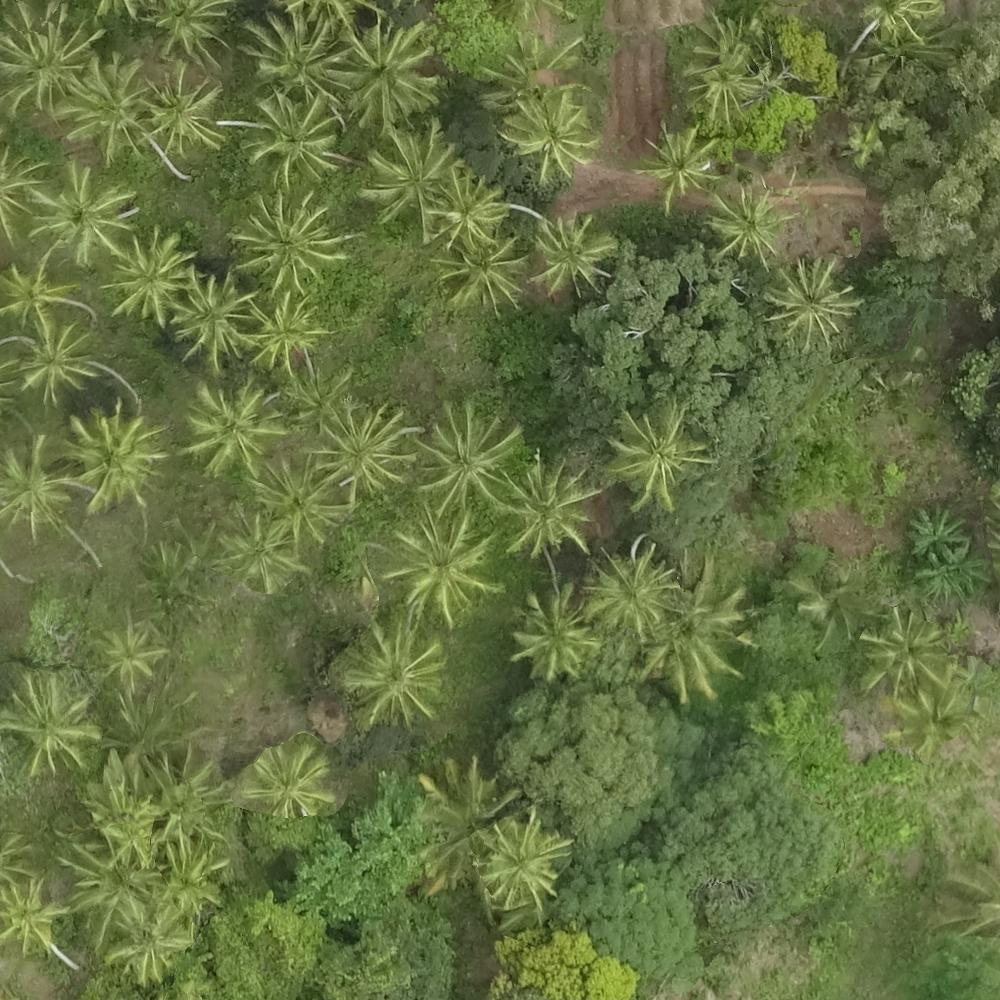Palm: (640, 561, 750, 694), (414, 760, 519, 884), (388, 508, 497, 622), (1, 5, 104, 112), (335, 23, 442, 126), (363, 126, 467, 230), (341, 623, 447, 725), (234, 196, 348, 290), (415, 406, 516, 508), (32, 164, 131, 263), (8, 675, 108, 773), (62, 410, 157, 512), (308, 402, 410, 497), (240, 11, 341, 105), (609, 406, 704, 505), (240, 91, 340, 183), (500, 454, 592, 554), (165, 265, 258, 361), (184, 382, 279, 474), (482, 811, 571, 909), (62, 58, 152, 154), (138, 63, 226, 156), (250, 458, 344, 545), (862, 605, 947, 699), (60, 835, 154, 919), (508, 593, 599, 678), (5, 311, 90, 401), (765, 258, 857, 341), (107, 235, 200, 317), (437, 231, 524, 317), (3, 433, 75, 535), (137, 758, 225, 840), (104, 899, 188, 982), (513, 100, 600, 177), (218, 515, 302, 594), (587, 546, 667, 626), (533, 215, 613, 294), (153, 836, 227, 921), (243, 295, 325, 371), (682, 45, 763, 121), (714, 185, 790, 264), (429, 168, 504, 247), (884, 682, 959, 761), (250, 746, 328, 821), (643, 123, 717, 202), (4, 260, 78, 333), (142, 1, 234, 59), (281, 365, 360, 432), (93, 619, 165, 689), (1, 878, 63, 952)
